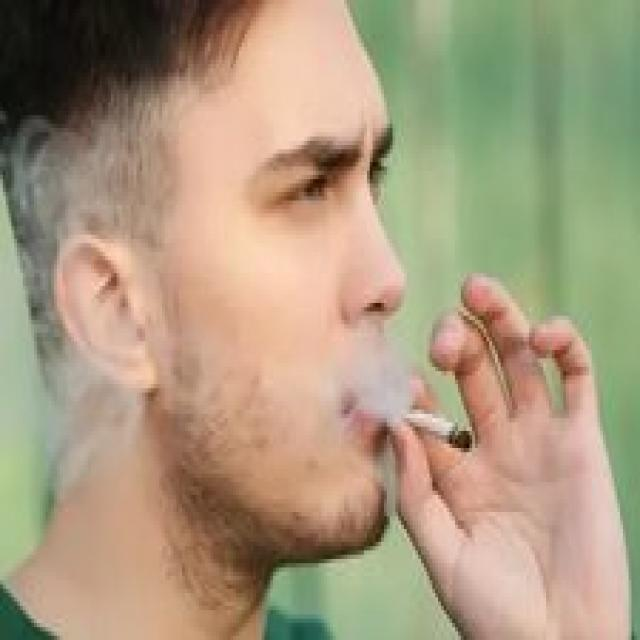smoke: (384, 388, 475, 457)
